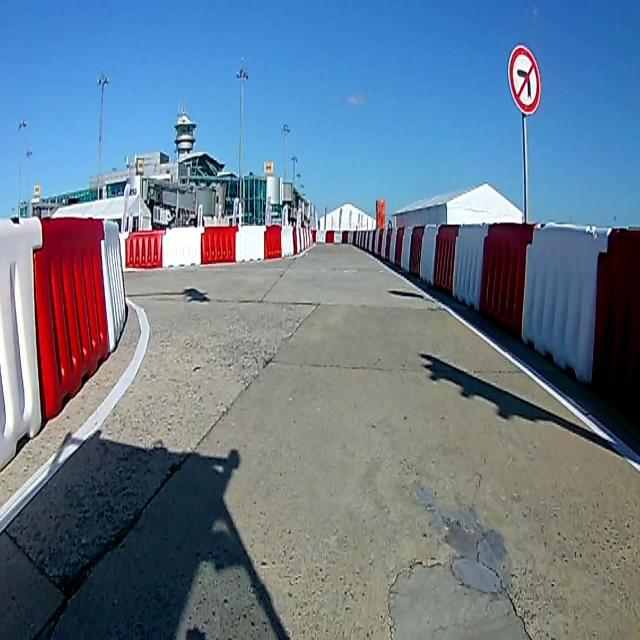soladonulmez: (508, 42, 542, 118)
